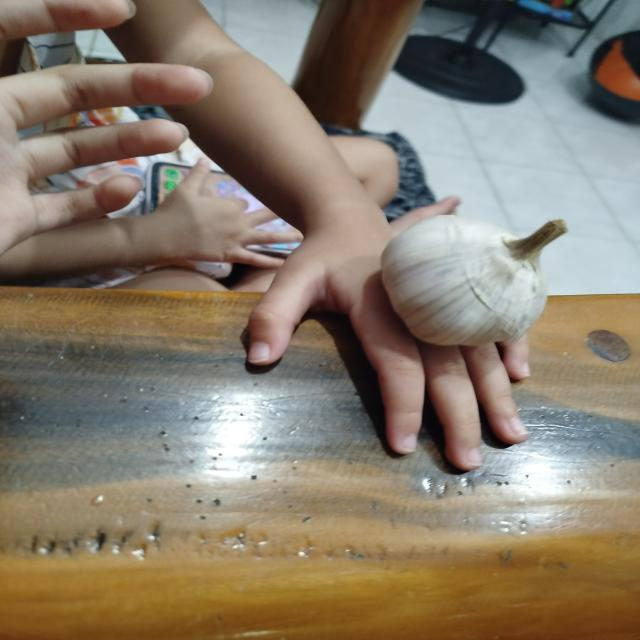garlic: (380, 213, 568, 346)
